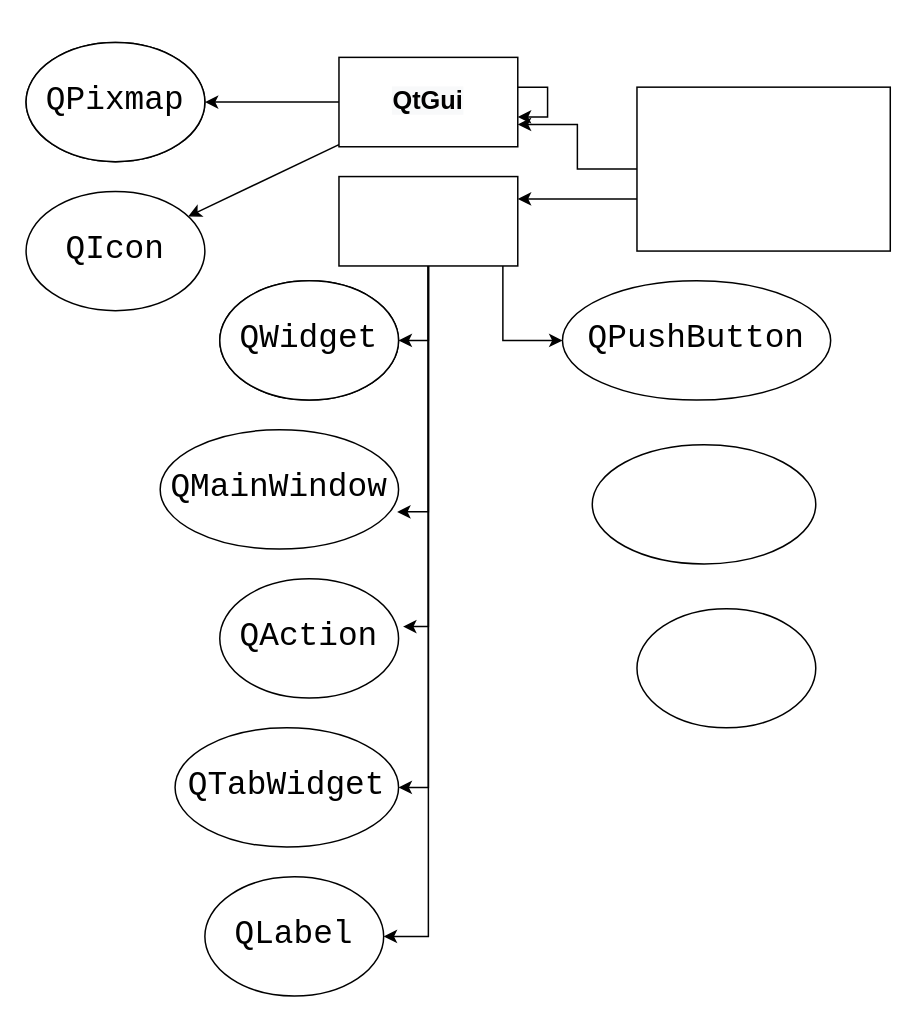
This 916x1022 diagram has some shape labels left out. The shapes that lost their labels are listed below. From the top down, each one's centre as x and y in pixels, then its label:
point 762,168: PyQt5
point 427,220: QtWidgets
point 703,503: QCheckBox
